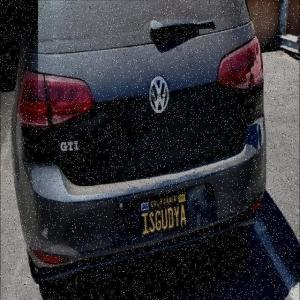Plate: (140, 189, 192, 237)
